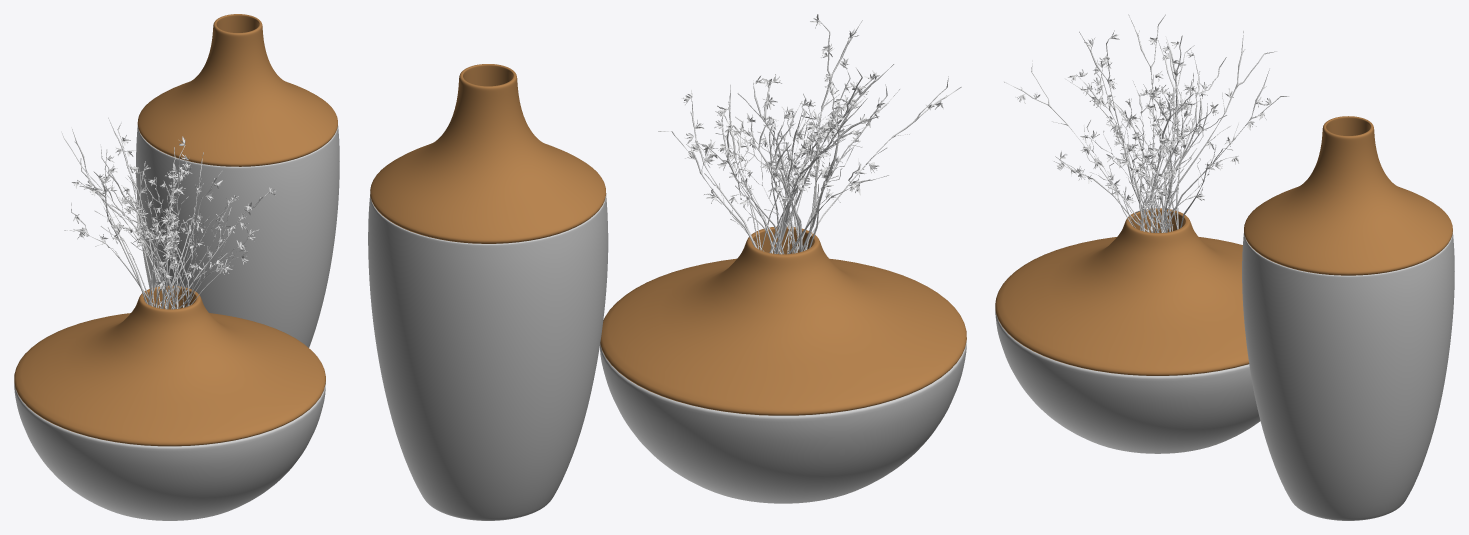
The model's file is porcelain.fbx.
3 renders of one model, left to right at view 1: azimuth 30°, elevation 25°; view 2: azimuth 150°, elevation 25°; view 3: azimuth 270°, elevation 25°, orthographic. The views are drawn at different scales.
Parts seen in each view (by area): view 1: Ceramic and golden vase-02, Ceramic and golden vase-01, dry plant; view 2: Ceramic and golden vase-01, Ceramic and golden vase-02, dry plant; view 3: Ceramic and golden vase-01, Ceramic and golden vase-02, dry plant.
Part boxes in pixels (x1=…): Ceramic and golden vase-02: x1=14, y1=285, x2=325, y2=520; Ceramic and golden vase-01: x1=136, y1=14, x2=339, y2=347; dry plant: x1=61, y1=117, x2=276, y2=309; Ceramic and golden vase-01: x1=368, y1=64, x2=608, y2=520; Ceramic and golden vase-02: x1=600, y1=226, x2=966, y2=503; dry plant: x1=658, y1=14, x2=961, y2=254; Ceramic and golden vase-01: x1=1242, y1=116, x2=1454, y2=520; Ceramic and golden vase-02: x1=995, y1=208, x2=1260, y2=453; dry plant: x1=1004, y1=14, x2=1288, y2=232.
Size of the model in its own units: 33.86 by 31.04 by 33.77.
